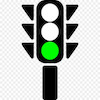green: (31, 18, 72, 78)
